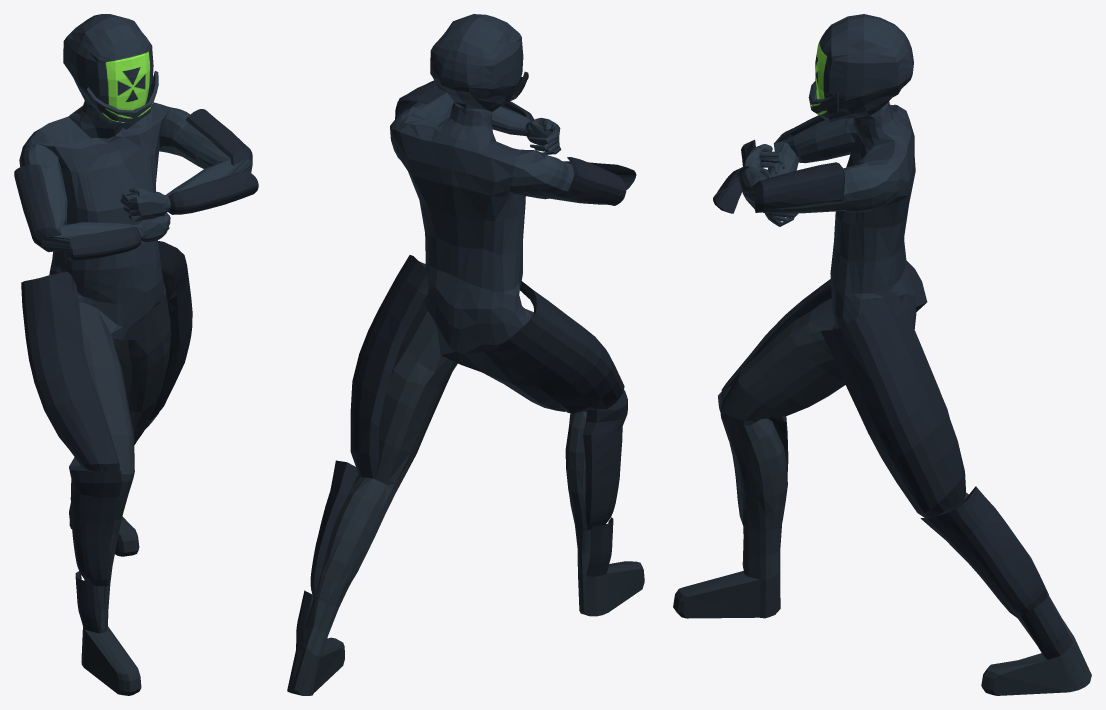
The model's file is Bastion_WR_000027.obj.
The picture shows the model from 3 angles, left to right: view 1: azimuth 30°, elevation 25°; view 2: azimuth 150°, elevation 25°; view 3: azimuth 270°, elevation 25°; orthographic projection. The views are drawn at different scales.
Parts seen in each view (by area): view 1: Cube.002; view 2: Cube.002; view 3: Cube.002.
Boxes of the visible parts, left/top/right/bottom form: Cube.002: left=14, top=14, right=258, bottom=695; Cube.002: left=287, top=14, right=644, bottom=695; Cube.002: left=673, top=14, right=1091, bottom=695.
Bounding box in the file's own units: 1.31 × 3.59 × 2.15.
